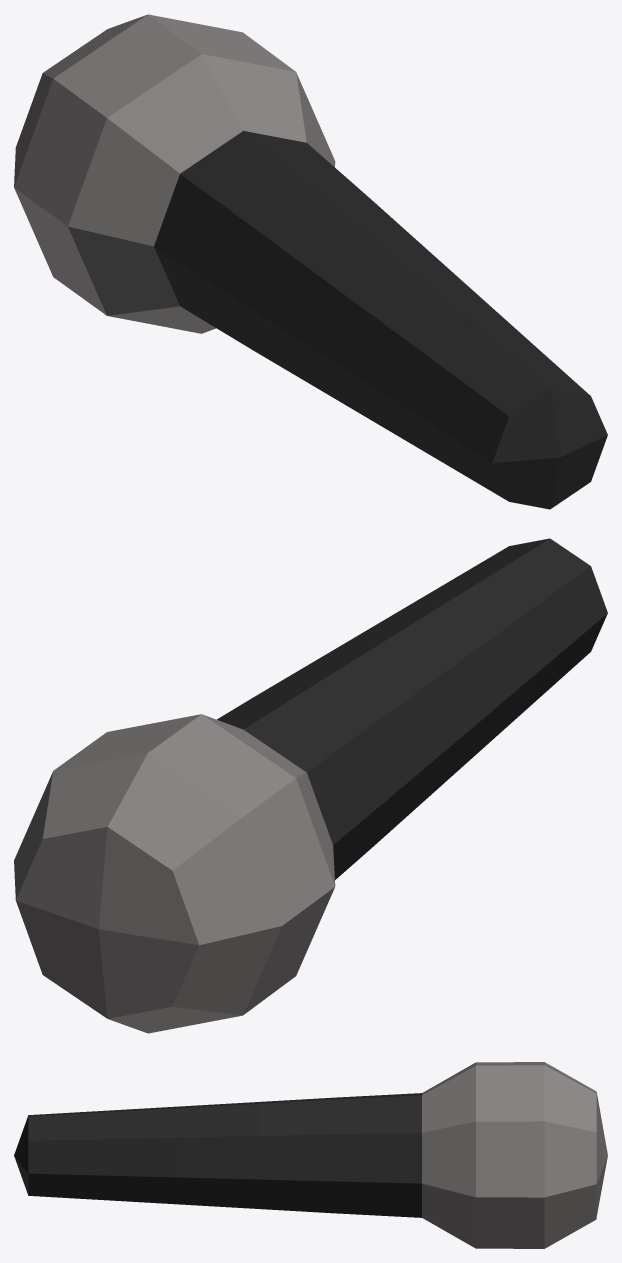
Rendered from microphone.glb.
The picture shows the model from 3 angles, top to bottom: view 1: azimuth 30°, elevation 25°; view 2: azimuth 150°, elevation 25°; view 3: azimuth 270°, elevation 25°; orthographic projection. The views are drawn at different scales.
Visible parts, largest first — view 1: microphone; view 2: microphone; view 3: microphone.
Part boxes in pixels (bbox=[...]): microphone: bbox=[14, 14, 607, 509]; microphone: bbox=[14, 538, 607, 1033]; microphone: bbox=[14, 1062, 607, 1248].
Bounding box in the file's own units: 0.1004 × 0.1004 × 0.2997.
1 material, 1 textured.
